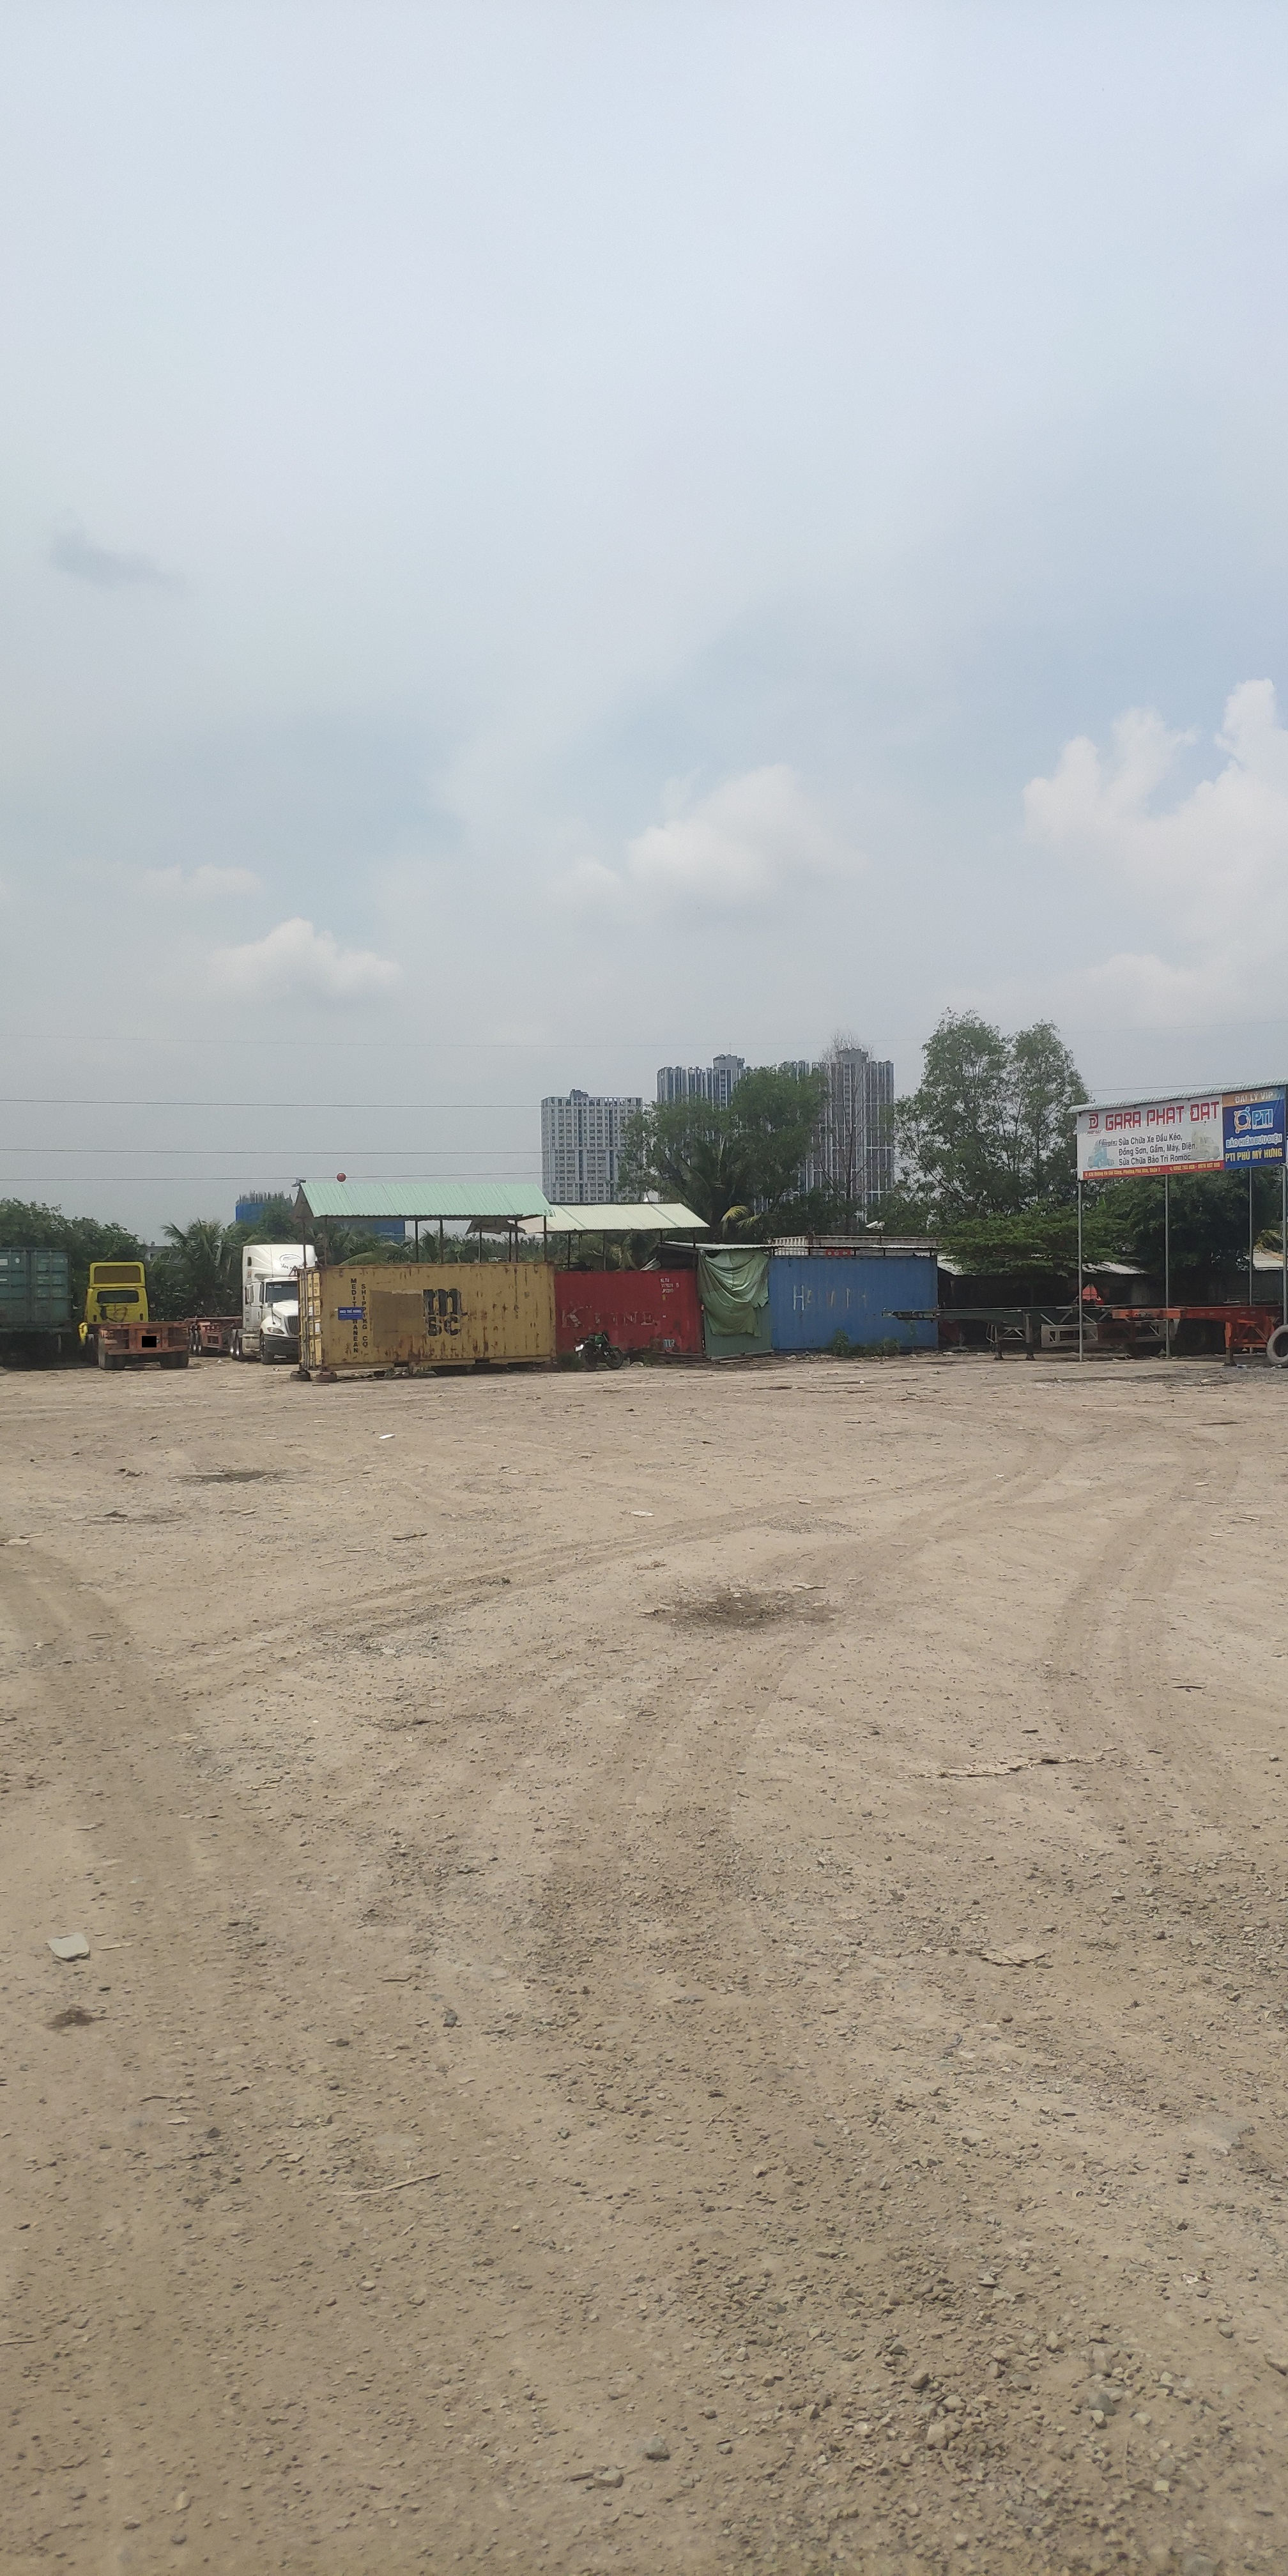hole: (611, 1574, 844, 1638), (747, 1503, 859, 1539), (161, 1462, 294, 1492)
